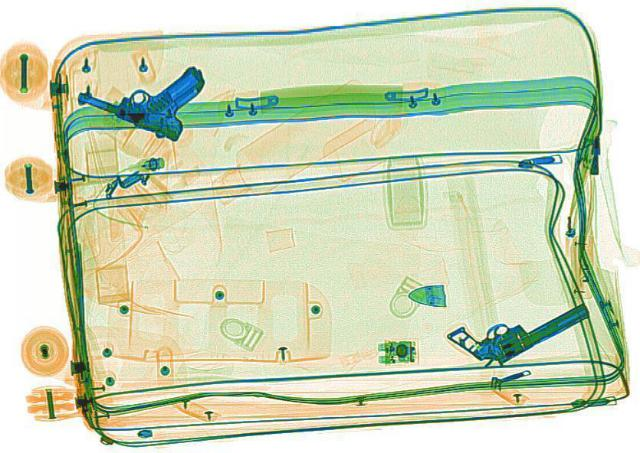Gun: (68, 38, 232, 143), (442, 276, 596, 368)
